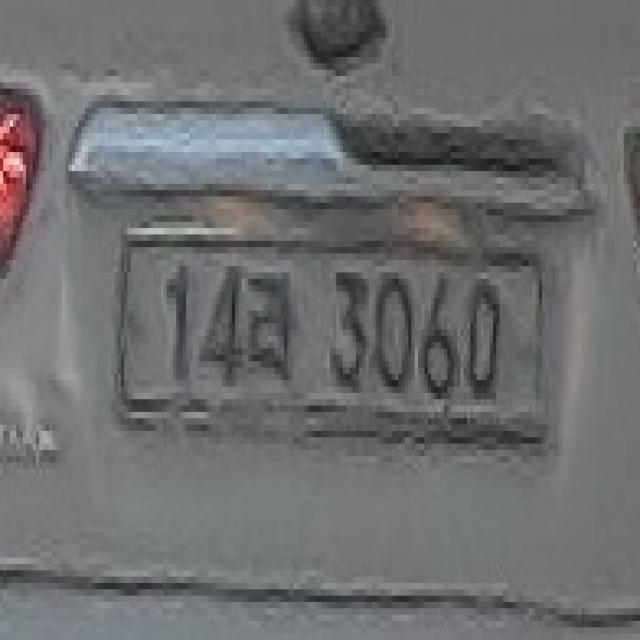0: (369, 266, 421, 412), (464, 272, 506, 406)
1: (160, 247, 196, 406)
3: (327, 260, 372, 393)
4: (196, 253, 248, 393)
6: (414, 266, 464, 412)
la: (245, 266, 304, 393)
license_plate: (111, 215, 549, 476)
